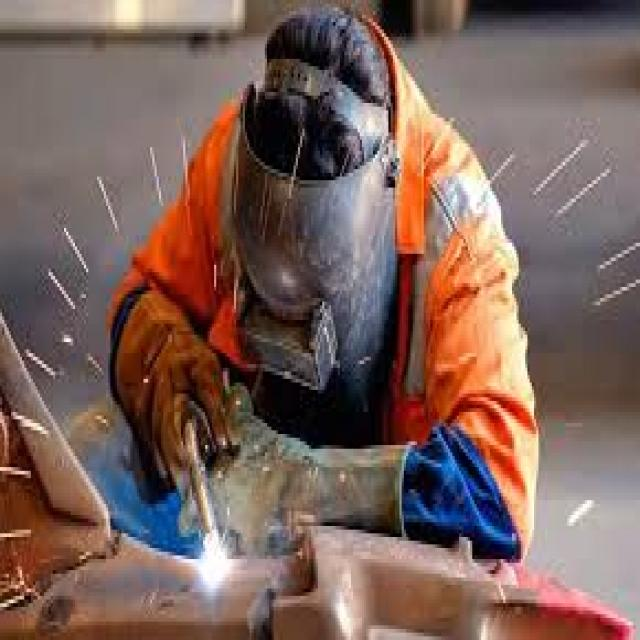Reflective-Jacket: (97, 11, 552, 559)
